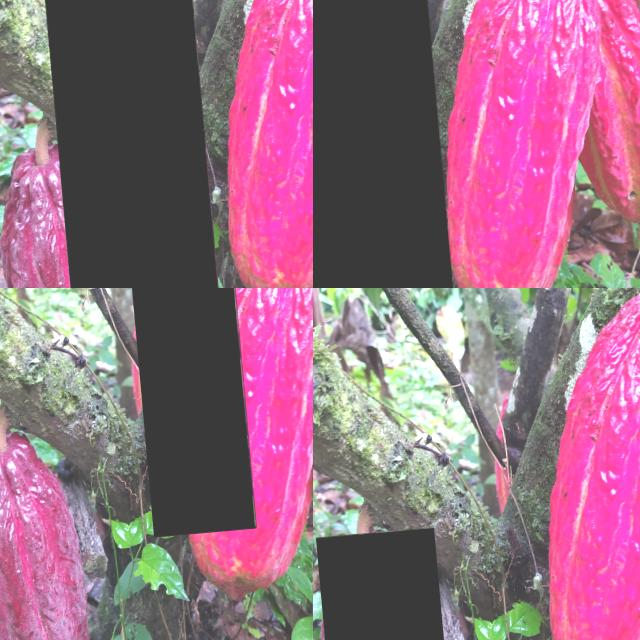Monilia: (36, 0, 214, 288), (313, 0, 450, 288)
Sana: (515, 299, 640, 640), (125, 288, 247, 542), (313, 530, 444, 640)
